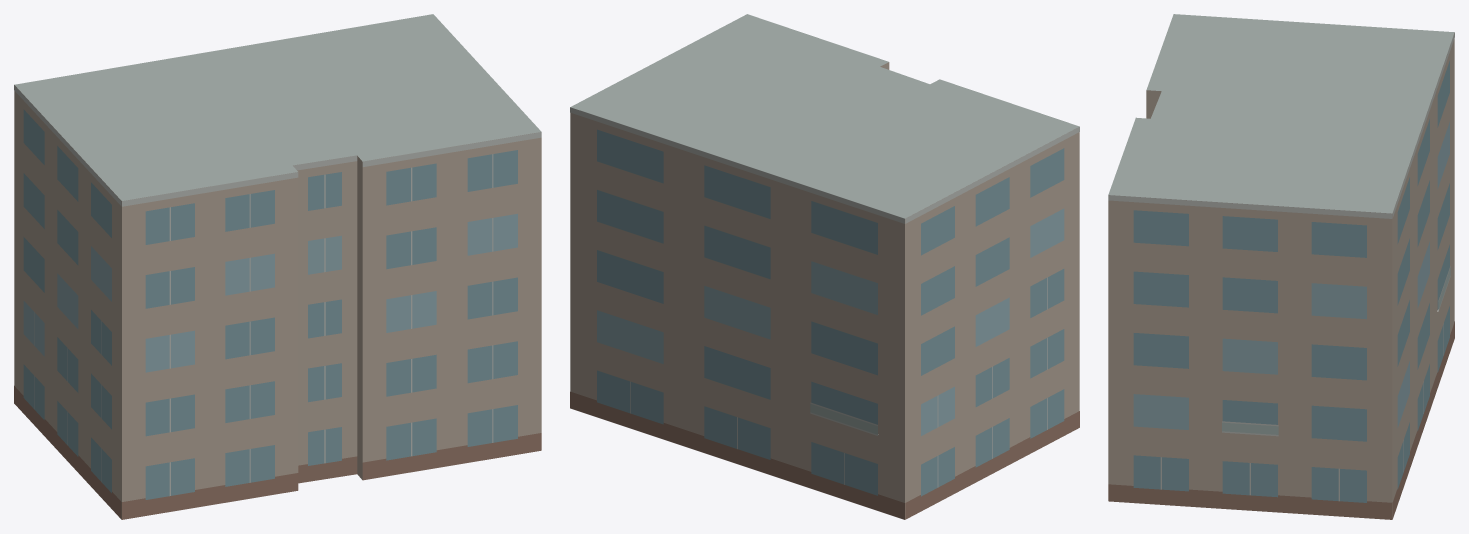
The model's file is survey-upis-32937707.glb.
3 renders of one model, left to right at view 1: azimuth 30°, elevation 25°; view 2: azimuth 150°, elevation 25°; view 3: azimuth 270°, elevation 25°, orthographic. The views are drawn at different scales.
Parts seen in each view (by area): view 1: survey-upis-32937707.tmp; view 2: survey-upis-32937707.tmp; view 3: survey-upis-32937707.tmp.
Boxes of the visible parts, left/top/right/bottom form: survey-upis-32937707.tmp: left=14, top=14, right=541, bottom=519; survey-upis-32937707.tmp: left=570, top=14, right=1079, bottom=519; survey-upis-32937707.tmp: left=1108, top=14, right=1454, bottom=519.
Size of the model in its own units: 19.08 by 13.65 by 14.
